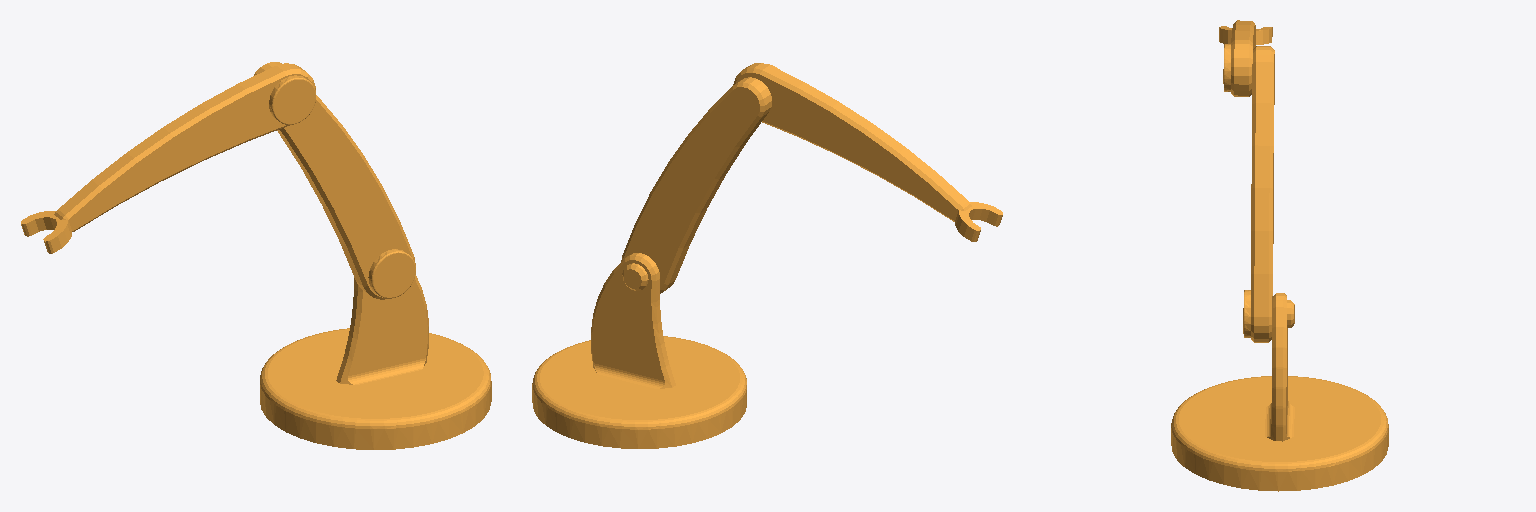
robot.urdf — Assem1:
<?xml version="1.0" encoding="utf-8"?>
<!-- This URDF was automatically created by SolidWorks to URDF Exporter! Originally created by [author] ([email redacted]) 
     Commit Version: 1.6.0-4-g7f85cfe  Build Version: 1.6.7995.38578
     For more information, please see http://wiki.ros.org/sw_urdf_exporter -->
<robot
  name="Assem1">
  <link
    name="base_link">
    <inertial>
      <origin
        xyz="0.00082388 1.3114E-05 0.015674"
        rpy="0 0 0" />
      <mass
        value="0.39627" />
      <inertia
        ixx="0.0006336"
        ixy="1.8843E-07"
        ixz="-1.3093E-05"
        iyy="0.0006455"
        iyz="-6.5659E-07"
        izz="0.00099322" />
    </inertial>
    <visual>
      <origin
        xyz="0 0 0"
        rpy="0 0 0" />
      <geometry>
        <mesh
          filename="package://Assem1/meshes/base_link.STL" />
      </geometry>
      <material
        name="">
        <color
          rgba="1 0.72157 0.32941 1" />
      </material>
    </visual>
    <collision>
      <origin
        xyz="0 0 0"
        rpy="0 0 0" />
      <geometry>
        <mesh
          filename="package://Assem1/meshes/base_link.STL" />
      </geometry>
    </collision>
  </link>
  <link
    name="link_1">
    <inertial>
      <origin
        xyz="-0.032063 0.01271 0.066496"
        rpy="0 0 0" />
      <mass
        value="0.11101" />
      <inertia
        ixx="0.00028254"
        ixy="2.4715E-06"
        ixz="0.00014362"
        iyy="0.0003697"
        iyz="-4.508E-06"
        izz="9.2205E-05" />
    </inertial>
    <visual>
      <origin
        xyz="0 0 0"
        rpy="0 0 0" />
      <geometry>
        <mesh
          filename="package://Assem1/meshes/link_1.STL" />
      </geometry>
      <material
        name="">
        <color
          rgba="1 0.72157 0.32941 1" />
      </material>
    </visual>
    <collision>
      <origin
        xyz="0 0 0"
        rpy="0 0 0" />
      <geometry>
        <mesh
          filename="package://Assem1/meshes/link_1.STL" />
      </geometry>
    </collision>
  </link>
  <joint
    name="joint_1"
    type="revolute">
    <origin
      xyz="-0.00037823 -0.024997 0.1"
      rpy="0 0 0" />
    <parent
      link="base_link" />
    <child
      link="link_1" />
    <axis
      xyz="0.015129 0.99989 0" />
    <limit
      lower="0"
      upper="6.283"
      effort="1000"
      velocity="0.5" />
  </joint>
  <link
    name="link_2">
    <inertial>
      <origin
        xyz="-0.06355 0.013107 -0.016872"
        rpy="0 0 0" />
      <mass
        value="0.091873" />
      <inertia
        ixx="3.5624E-05"
        ixy="6.1272E-06"
        ixz="-8.1085E-05"
        iyy="0.00030278"
        iyz="1.7783E-06"
        izz="0.00027256" />
    </inertial>
    <visual>
      <origin
        xyz="0 0 0"
        rpy="0 0 0" />
      <geometry>
        <mesh
          filename="package://Assem1/meshes/link_2.STL" />
      </geometry>
      <material
        name="">
        <color
          rgba="1 0.72157 0.32941 1" />
      </material>
    </visual>
    <collision>
      <origin
        xyz="0 0 0"
        rpy="0 0 0" />
      <geometry>
        <mesh
          filename="package://Assem1/meshes/link_2.STL" />
      </geometry>
    </collision>
  </link>
  <joint
    name="joint_2"
    type="revolute">
    <origin
      xyz="-0.082414 -0.013755 0.14881"
      rpy="0 0 0" />
    <parent
      link="link_1" />
    <child
      link="link_2" />
    <axis
      xyz="0.015129 0.99989 0" />
    <limit
      lower="0"
      upper="6.283"
      effort="1000"
      velocity="0.5" />
  </joint>
</robot>

--- Facts derived from the render (not from the file) ---
The picture shows the robot from 3 angles, left to right: view 1: azimuth 30°, elevation 25°; view 2: azimuth 150°, elevation 25°; view 3: azimuth 270°, elevation 25°; orthographic projection.
Model Assem1 with 3 links and 2 joints (2 revolute), rooted at base_link, posed all joints at 0.
Links seen in each view (by area): view 1: base_link, link_2, link_1; view 2: base_link, link_1, link_2; view 3: base_link, link_1, link_2.
Boxes of the visible links, x1,y1,x2,y2 form: base_link: (260, 275, 491, 449); link_2: (21, 63, 315, 253); link_1: (254, 62, 415, 299); base_link: (532, 253, 746, 448); link_1: (621, 77, 771, 293); link_2: (733, 63, 1002, 241); base_link: (1171, 293, 1388, 491); link_1: (1243, 46, 1274, 342); link_2: (1219, 20, 1272, 96).
Size in the robot's own frame: 0.3451 by 0.15 by 0.2686 metres.
Meshes: 3 distinct files referenced, 3 mesh visuals loaded (3 binary STL).
